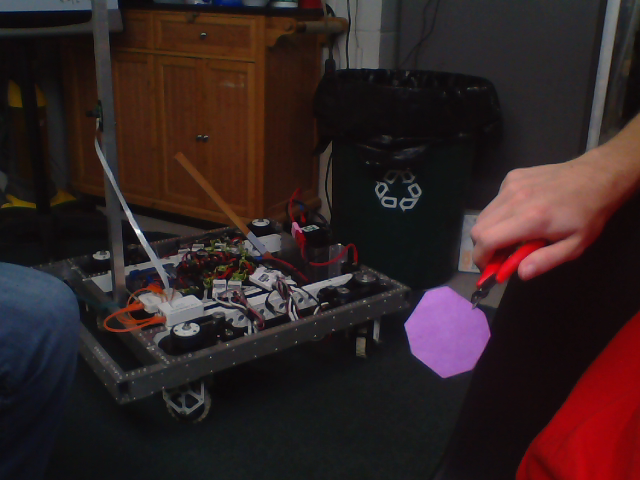ball: (405, 285, 492, 380)
